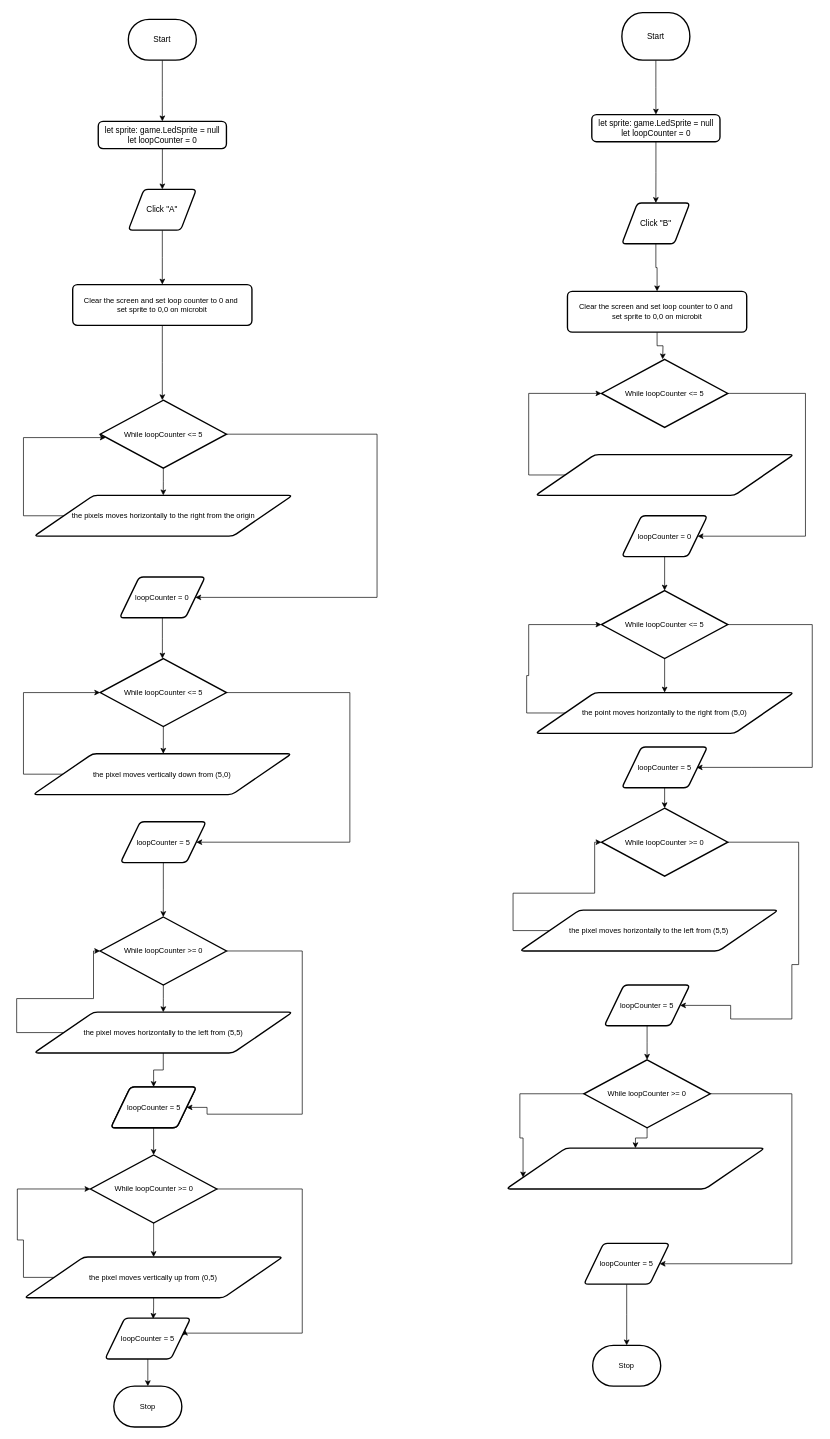
Some shapes in this 830 by 1439 pixel diagram are drawn without their labels. Here are the shapes that lost their labels. From the top down, the centre of each, then its label:
the point at 664,475: the pixels moves vertically down from the origin
the point at 635,1168: the pixel moves to the left from (5,5)
